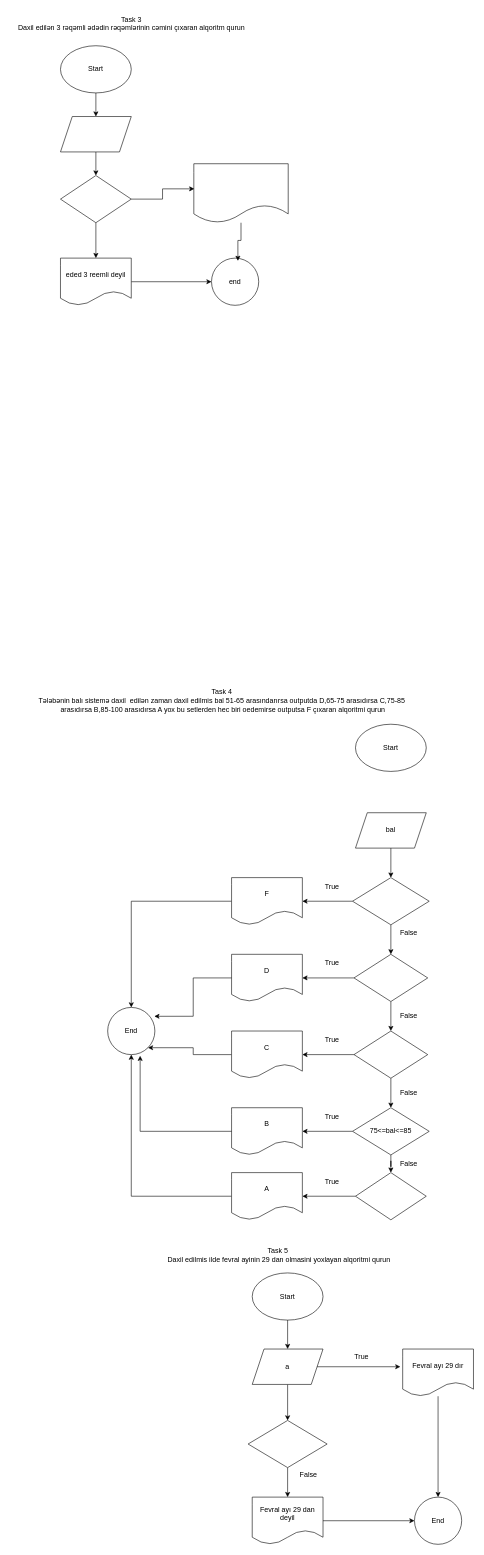
This 484x1555 diagram has some shape labels left out. Here are the shapes that lost their labels. From the top down, the centre of each, then its label:
(95,134): ədəd cəm a,b,c
(95,199): a>99 && a<1000
(240,193): a=eded%10 eded=(eded-a)/10 b eded%10 eded=(eded-b)/10 c=eded cem=a+b+c
(390,901): bal<51
(390,978): 51<=bal<=65
(390,1054): 65<=bal<=75
(390,1196): 85<=bal<=100
(287,1444): a%4==0
